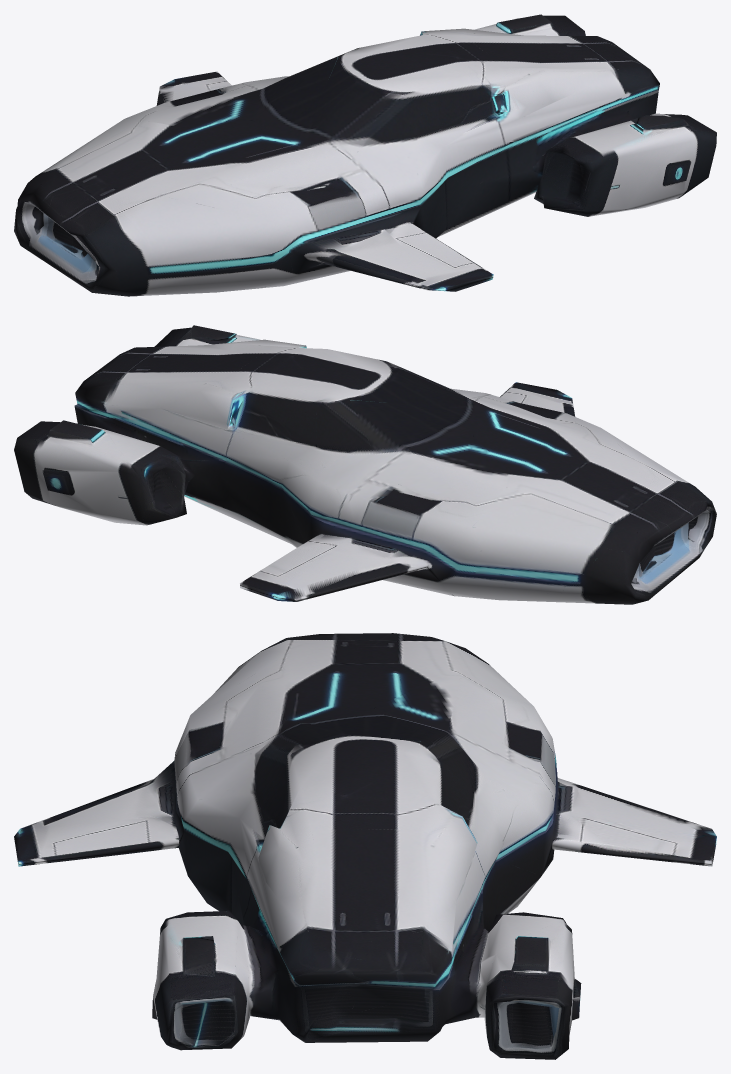
The model's file is racer_optimized.glb.
3 views of the same model, one above another, from view 1: azimuth 30°, elevation 25°; view 2: azimuth 150°, elevation 25°; view 3: azimuth 270°, elevation 25° (orthographic). The views are drawn at different scales.
Size of the model in its own units: 1.89 by 0.4476 by 1.55.
1 material, 1 textured.
